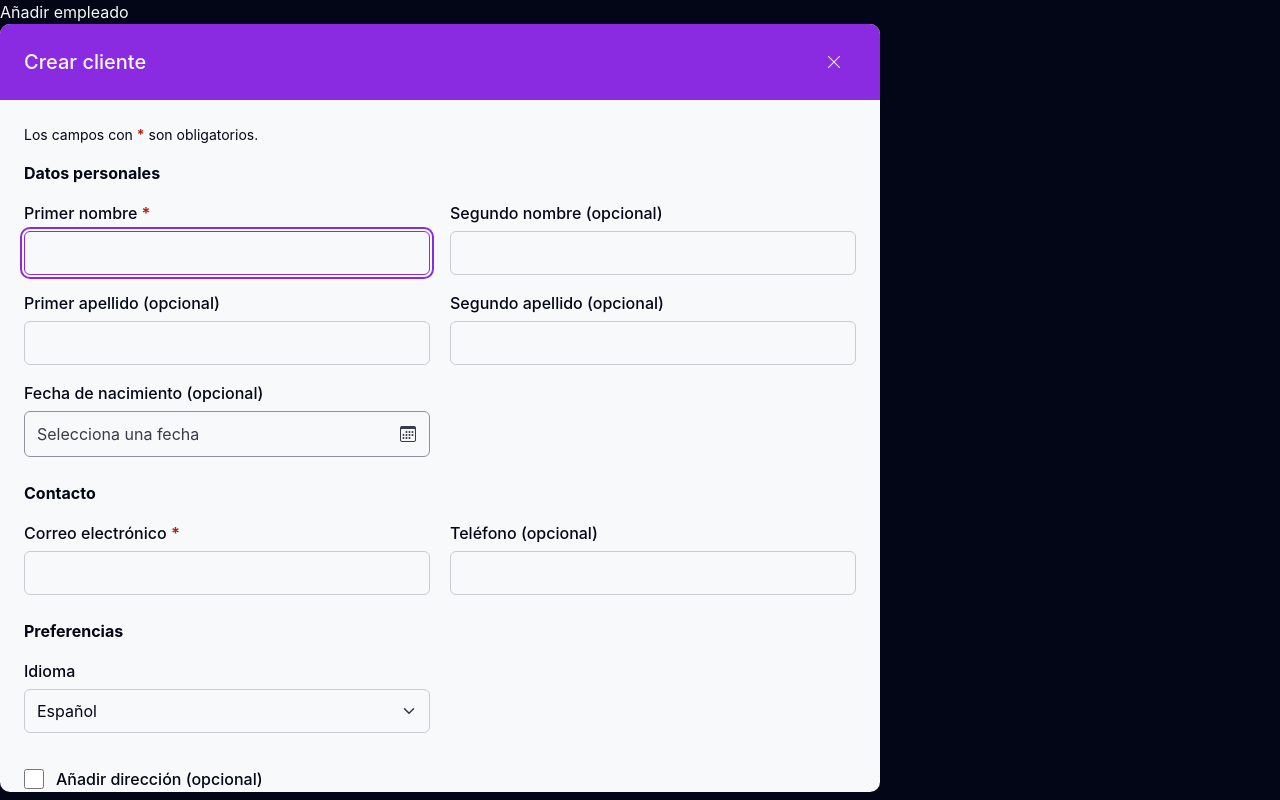
Test case: client form › shows a character counter while retaining the Oracle storage limit
This screenshot has width=1280, height=800.
Click the checkbox labelled "Añadir dirección (opcional)". click: (34, 779)
box: [24,769,44,789]
(page scrolled)
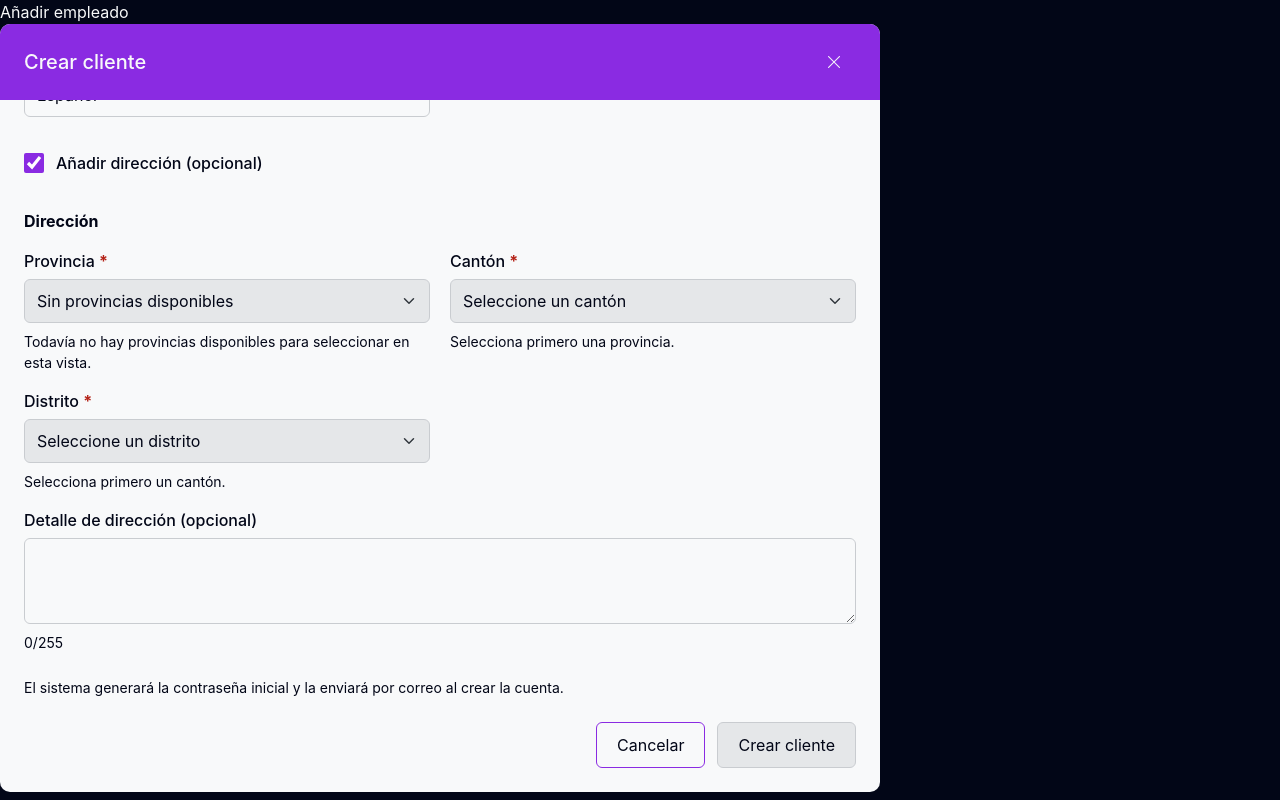
Type "á🎬" into the text box named "details". click: (440, 581)
box: [24,538,856,624]
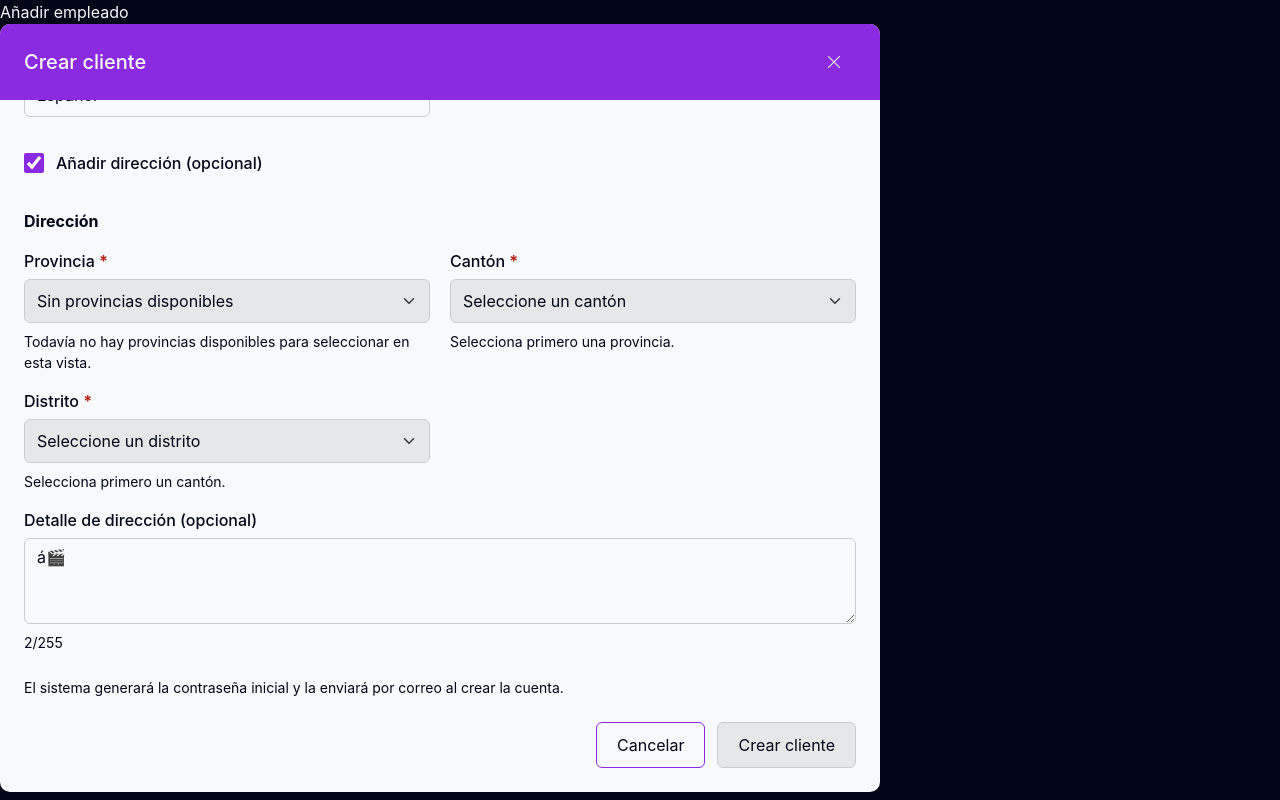
Expected: the text "2/255" is shown, [24,634,63,651]
